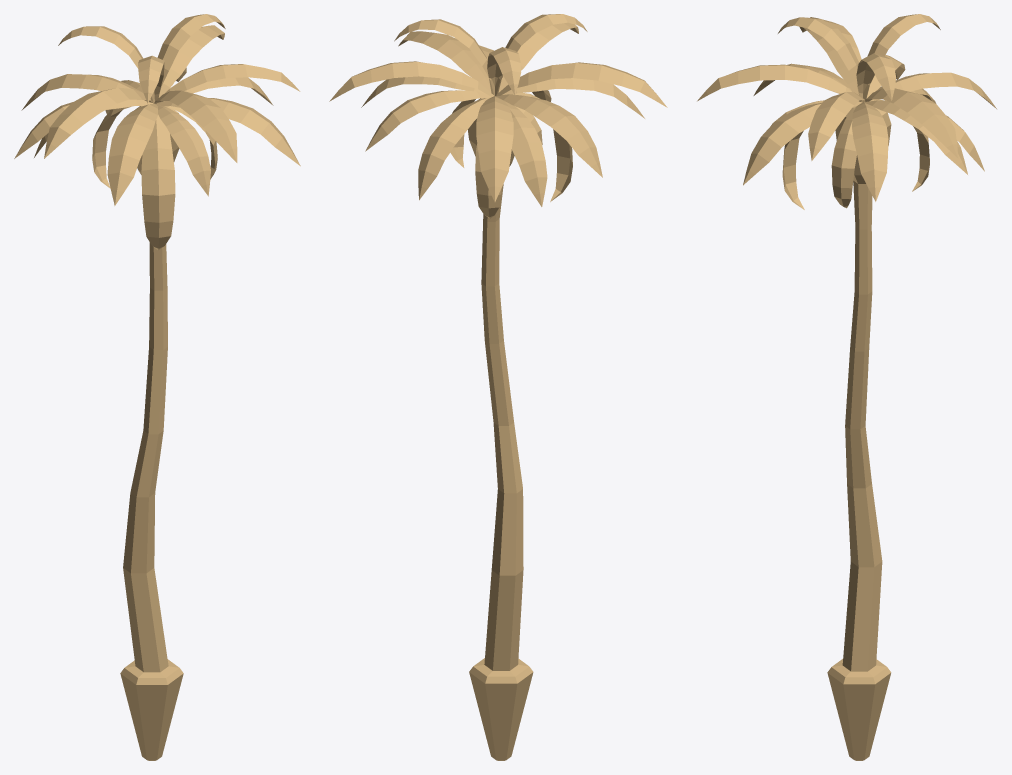
The model's file is Mega_Asset_s_Pack_Cylinder.FBX.
3 renders of one model, left to right at view 1: azimuth 30°, elevation 25°; view 2: azimuth 150°, elevation 25°; view 3: azimuth 270°, elevation 25°, orthographic.
Visible parts, largest first — view 1: Mega_Asset_s_Pack_Cylinder; view 2: Mega_Asset_s_Pack_Cylinder; view 3: Mega_Asset_s_Pack_Cylinder.
Part boxes in pixels (<box>): Mega_Asset_s_Pack_Cylinder: <box>14,14,300,760</box>; Mega_Asset_s_Pack_Cylinder: <box>329,14,667,760</box>; Mega_Asset_s_Pack_Cylinder: <box>697,14,996,760</box>.
Size of what is drawn, in the model's own units: 418 by 406 by 1083.
